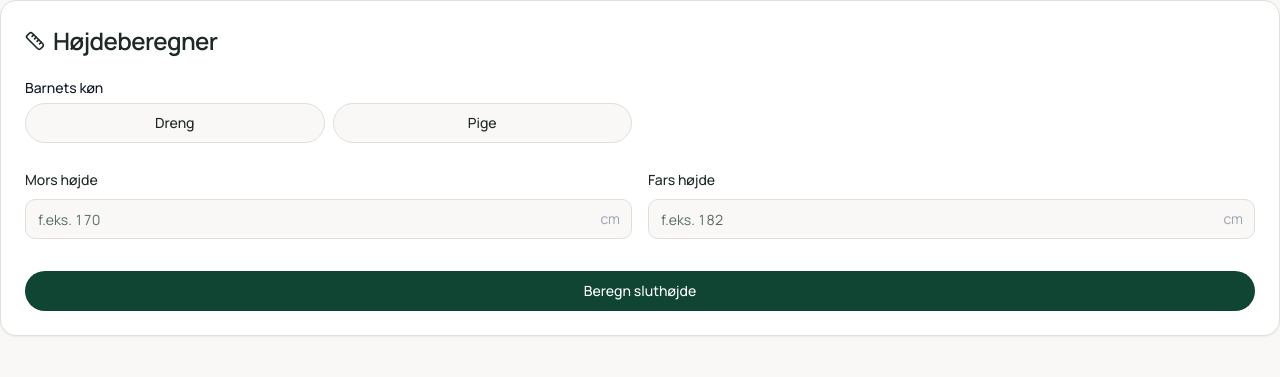
Test: AdultHeightCalculator › asks for the child's sex rather than guessing it
Type "170" into the field labelled "Mors højde" at (328, 219), box [25, 199, 632, 239]
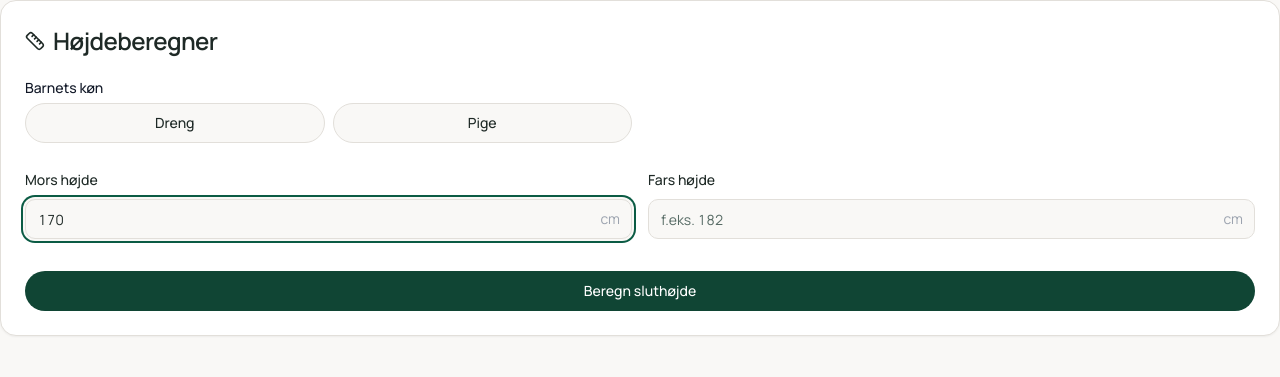
Type "182" into the field labelled "Fars højde" at (952, 219), box [648, 199, 1255, 239]
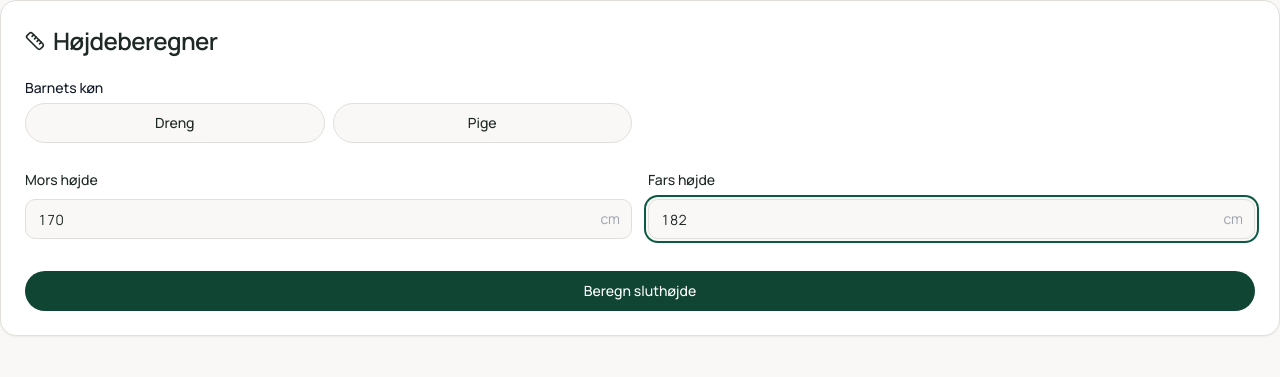
Click the button "Beregn sluthøjde" at (640, 291), box [25, 271, 1255, 311]
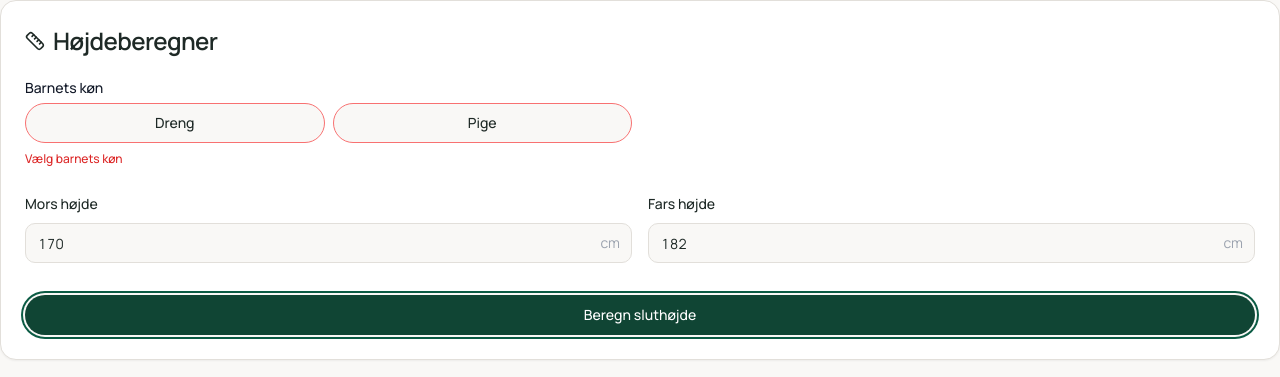
Expected: the text "Vælg barnets køn" is shown, [25, 150, 123, 167]
